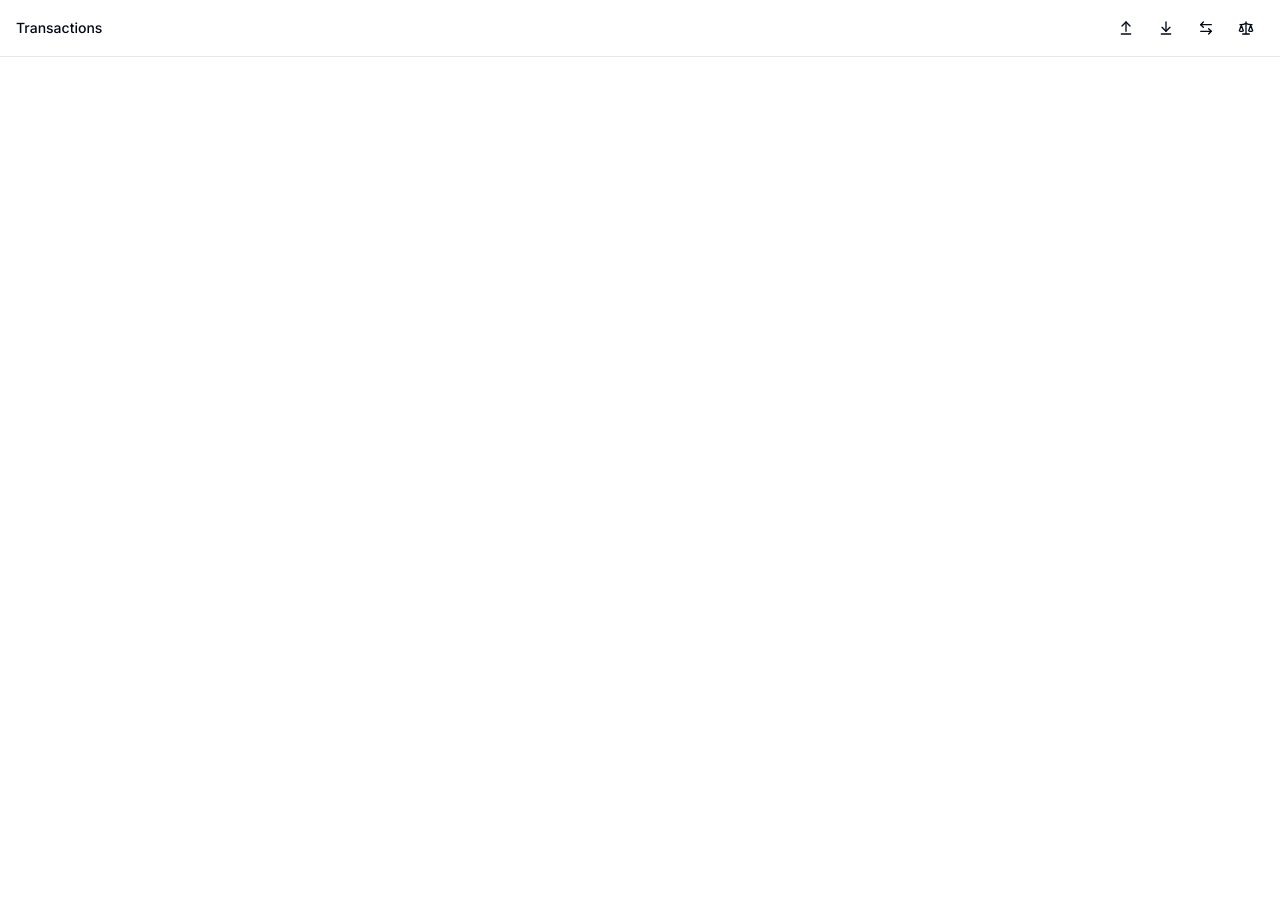
Test case: ControlBar › clicking "Add expense" opens the expense dialog
Click the button named "add expense" at (1126, 28), box x1=1108 y1=10 x2=1144 y2=46
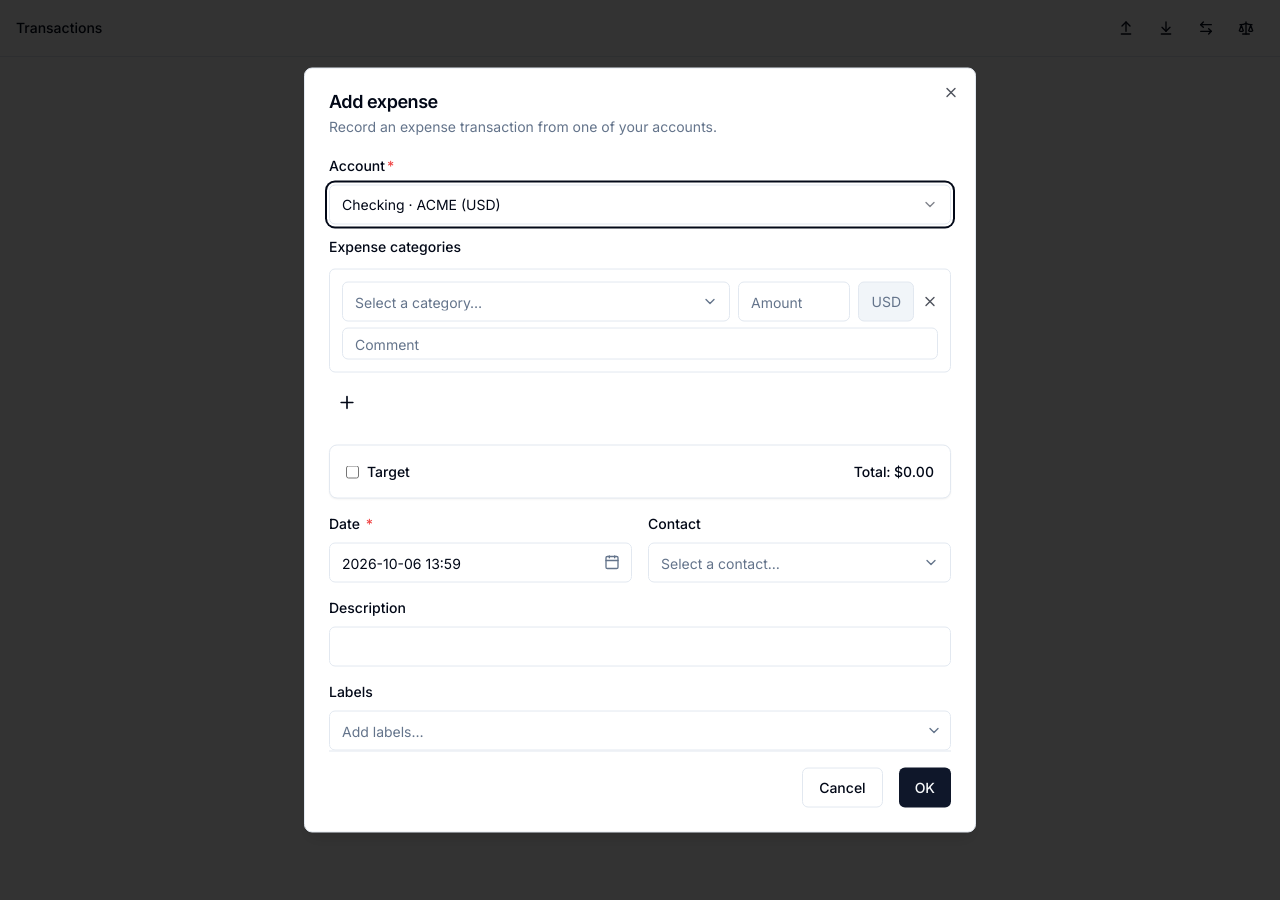
expect the dialog "Add expense" is shown: met, box x1=304 y1=68 x2=976 y2=832
expect the button "OK" is shown: met, box x1=899 y1=768 x2=951 y2=808
